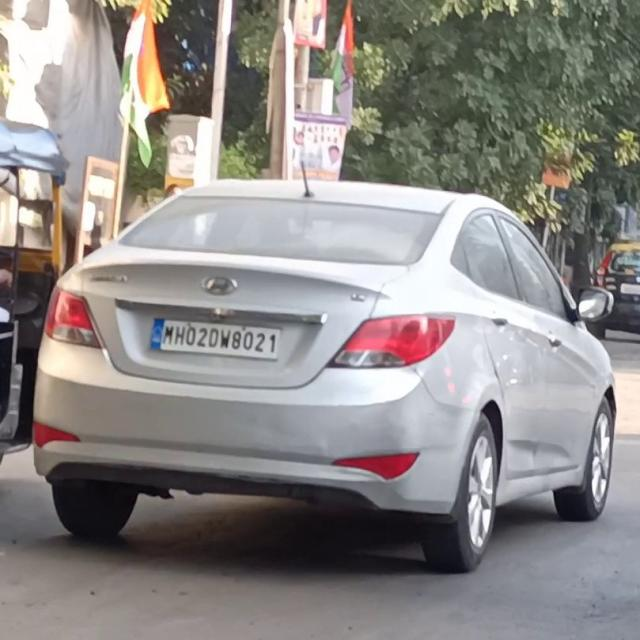license_plate: (147, 310, 285, 365)
